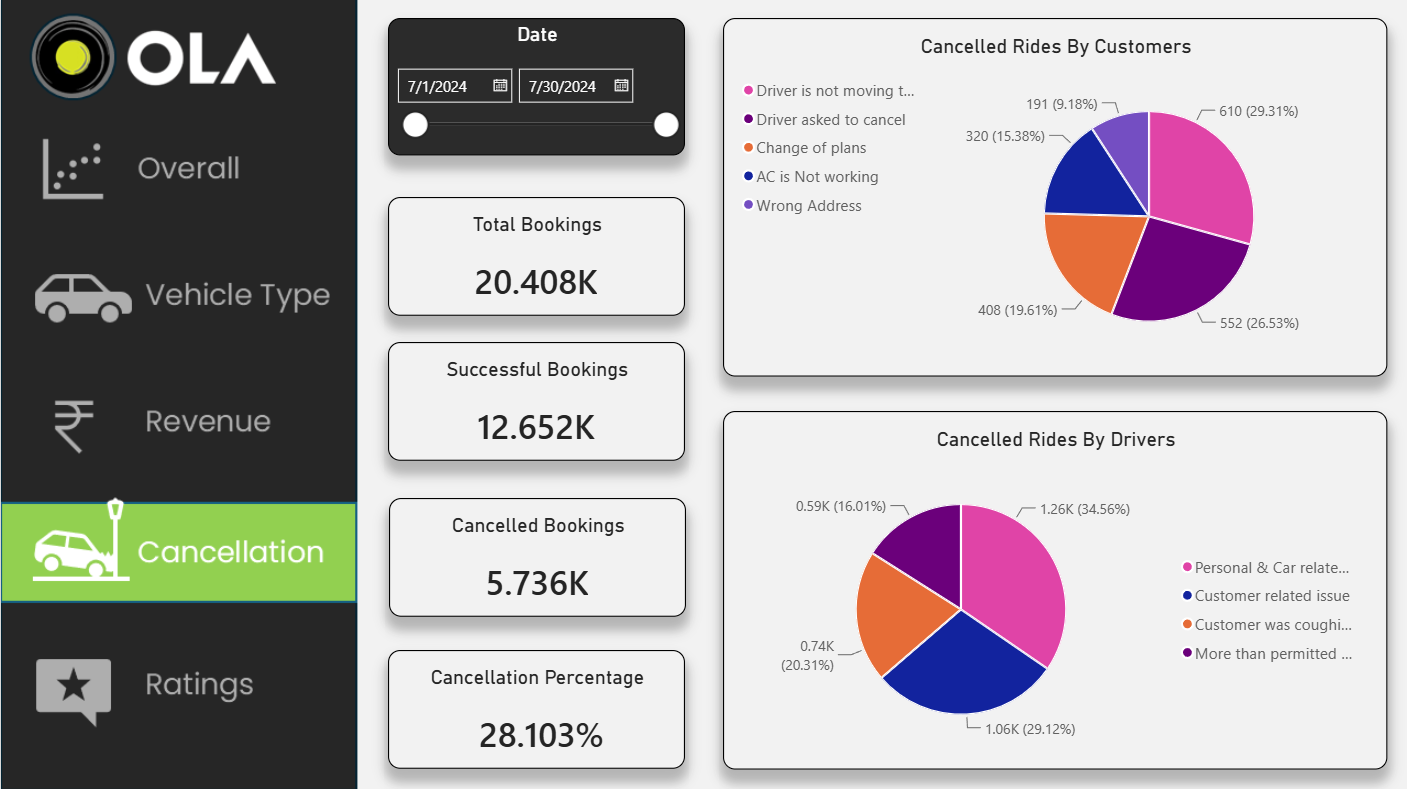

This screenshot's page, from the dashboard's own definition file:
{"tool":"powerbi","page":{"name":"CANCELLATION","canvas":[1280,720],"ordinal":3},"visuals":[{"type":"actionButton","box":[0,220,322.9,91.1],"z":0},{"type":"actionButton","box":[0,341.8,322.9,91.1],"z":1000},{"type":"actionButton","box":[0,452.7,322.7,90.9],"z":2000},{"type":"actionButton","box":[0,580.9,322.7,90.9],"z":3000},{"type":"actionButton","box":[0,111.8,322.7,90.9],"z":4000},{"type":"pieChart","title":"Cancelled Rides By Customers","fields":{"Category":["July.Canceled_Rides_by_Customer"],"Y":["CountNonNull(July.Canceled_Rides_by_Customer)"]},"box":[656,16.5,603.7,325.7],"z":5000},{"type":"pieChart","title":"Cancelled Rides By Drivers","fields":{"Category":["July.Canceled_Rides_by_Driver"],"Y":["CountNonNull(July.Canceled_Rides_by_Driver)"]},"box":[656,373.4,603.7,325.7],"z":6000},{"type":"slicer","title":"Date","fields":{"Values":["July.Date"]},"box":[351.4,16.5,269.7,124.8],"z":7000},{"type":"cardVisual","title":"Total Bookings","fields":{"Data":["Count(July.Booking_ID)"]},"box":[351.8,179.1,269.7,108.3],"z":8000},{"type":"cardVisual","title":"Successful Bookings","fields":{"Data":["Count(July.Booking_ID)"]},"box":[351.8,310.9,269.7,108.3],"z":9000},{"type":"cardVisual","title":"Cancelled Bookings","fields":{"Data":["Count(July.Booking_ID)"]},"box":[352.7,452.7,269.7,108.3],"z":10000},{"type":"cardVisual","title":"Cancellation Percentage","fields":{"Data":["July.Overall Cancellation %"]},"box":[351.8,590.9,269.7,108.3],"z":11000}]}

Visuals, with their boxes in screenshot pixels (x1, y1, x2, y2), scaled from the page's 1280x720 canvas onto the 1407x789 screenshot:
actionButton: box=[0, 241, 355, 341]
actionButton: box=[0, 375, 355, 474]
actionButton: box=[0, 496, 355, 596]
actionButton: box=[0, 637, 355, 736]
actionButton: box=[0, 123, 355, 222]
"Cancelled Rides By Customers" pieChart: box=[721, 18, 1385, 375]
"Cancelled Rides By Drivers" pieChart: box=[721, 409, 1385, 766]
"Date" slicer: box=[386, 18, 683, 155]
"Total Bookings" cardVisual: box=[387, 196, 683, 315]
"Successful Bookings" cardVisual: box=[387, 341, 683, 459]
"Cancelled Bookings" cardVisual: box=[388, 496, 684, 615]
"Cancellation Percentage" cardVisual: box=[387, 648, 683, 766]
